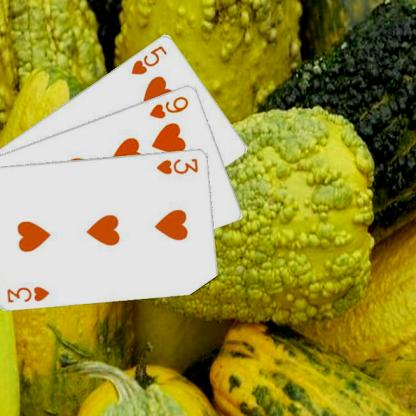3H: (4, 283, 51, 304), (154, 155, 200, 176)
5H: (128, 42, 168, 76)
9H: (146, 93, 190, 119)
